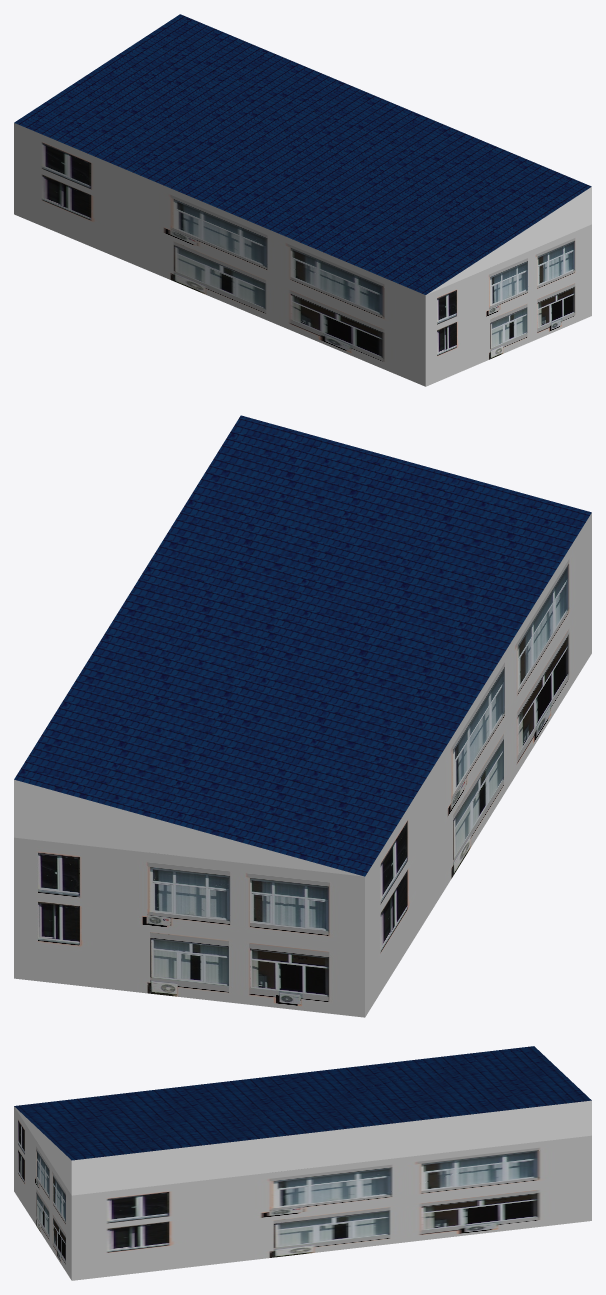
3 views of the same model, one above another, from view 1: azimuth 30°, elevation 25°; view 2: azimuth 150°, elevation 25°; view 3: azimuth 270°, elevation 25° (orthographic). The views are drawn at different scales.
Parts seen in each view (by area): view 1: CityEngineMaterial_6_m, CityEngineMaterial_9_m, CityEngineMaterial_3_m; view 2: CityEngineMaterial_6_m, CityEngineMaterial_9_m, CityEngineMaterial_3_m; view 3: CityEngineMaterial_9_m, CityEngineMaterial_6_m, CityEngineMaterial_3_m.
Boxes of the visible parts, left/top/right/bottom form: CityEngineMaterial_6_m: left=14, top=14, right=591, bottom=294; CityEngineMaterial_9_m: left=14, top=123, right=591, bottom=386; CityEngineMaterial_3_m: left=427, top=187, right=591, bottom=294; CityEngineMaterial_6_m: left=14, top=415, right=591, bottom=876; CityEngineMaterial_9_m: left=14, top=513, right=591, bottom=1017; CityEngineMaterial_3_m: left=14, top=779, right=363, bottom=876; CityEngineMaterial_9_m: left=14, top=1106, right=591, bottom=1280; CityEngineMaterial_6_m: left=14, top=1046, right=591, bottom=1160; CityEngineMaterial_3_m: left=15, top=1100, right=591, bottom=1195.
Bounding box in the file's own units: 35.51 × 13.33 × 58.02.
